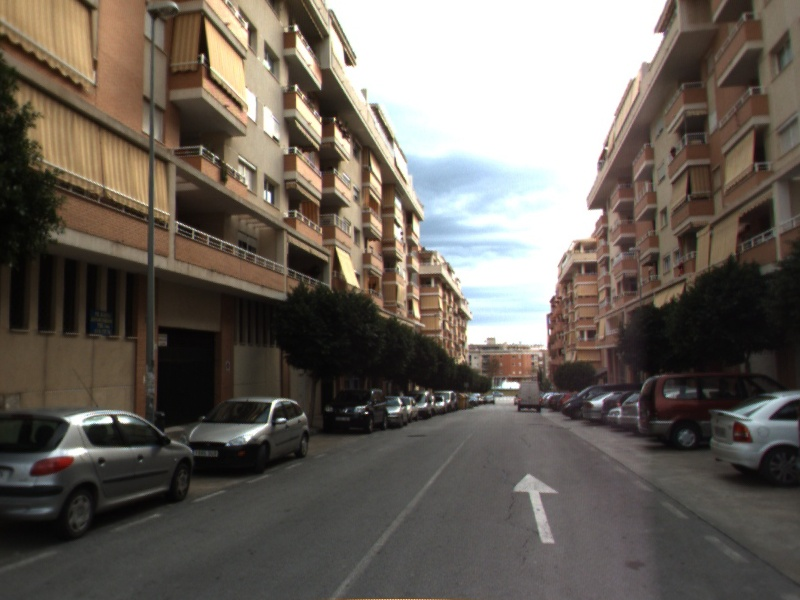STRAIGHT: (509, 471, 561, 545)
